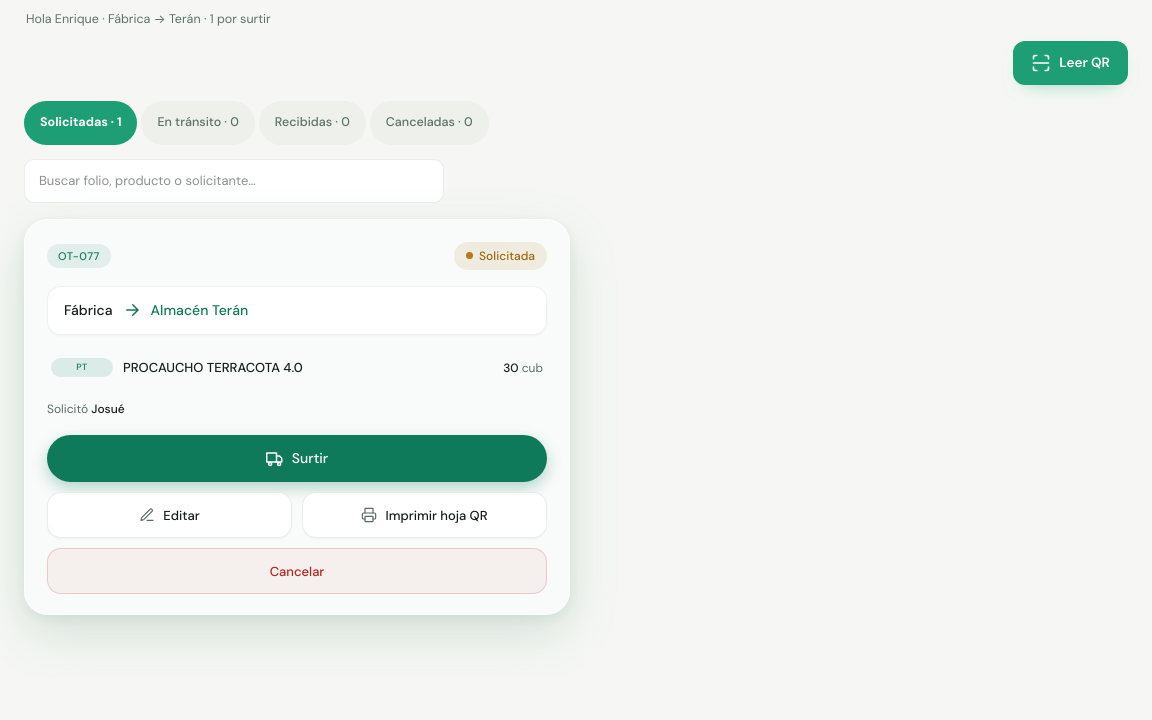
Test: Surtir eligiendo lotes › si no suma lo solicitado, no se manda y dice cuánto falta
Click the button "Surtir".
click(297, 459)  # box [47, 435, 547, 482]
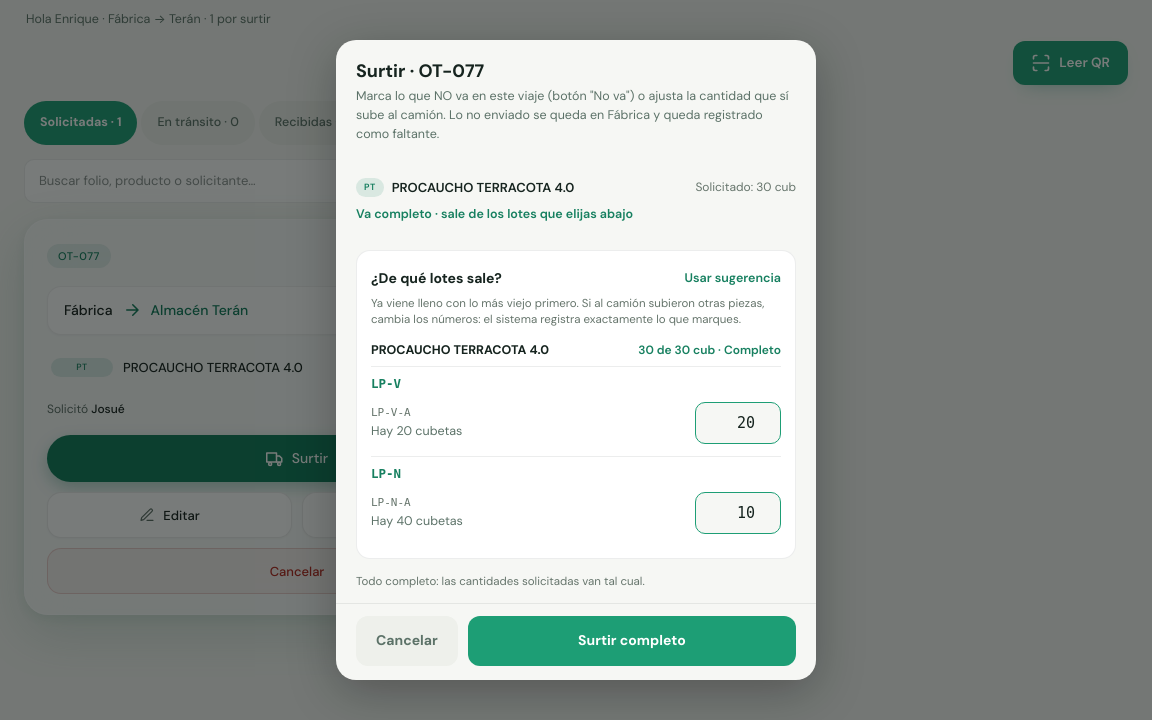
Replace the text in the number field named "Piezas de LP-N-A que van" with "5" at {"x": 738, "y": 513}, box [695, 492, 781, 534]
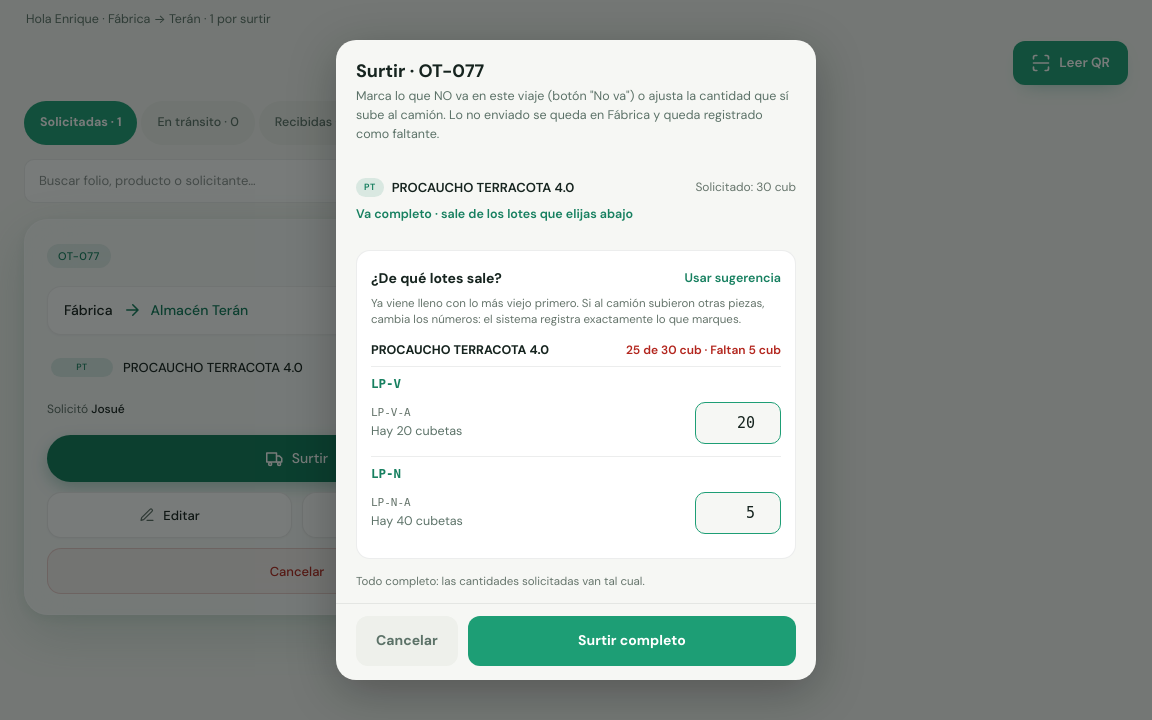
expect the text "25 de 30 cub · Faltan 5 cub" is shown: met, box [626, 341, 781, 359]
Click the button "Surtir completo".
click(632, 640)  # box [468, 616, 796, 666]
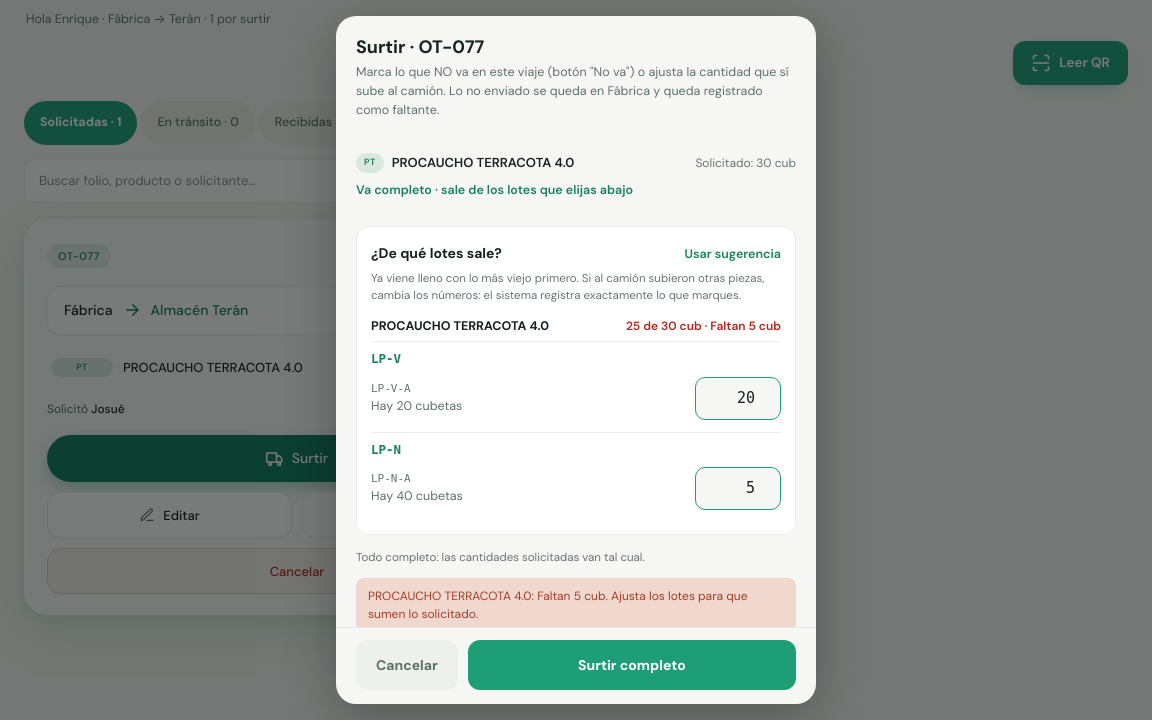
expect the text "Faltan 5 cub. Ajusta los lotes" is shown: met, box [368, 588, 748, 622]
